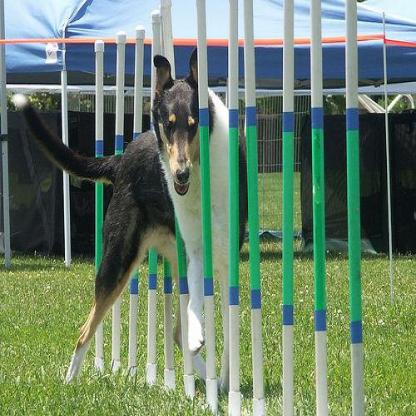collie: (8, 49, 247, 388)
